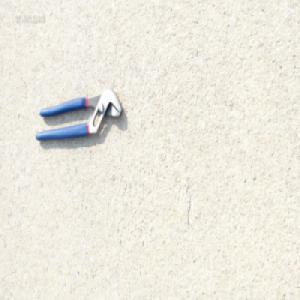Pliers: (34, 86, 123, 143)
